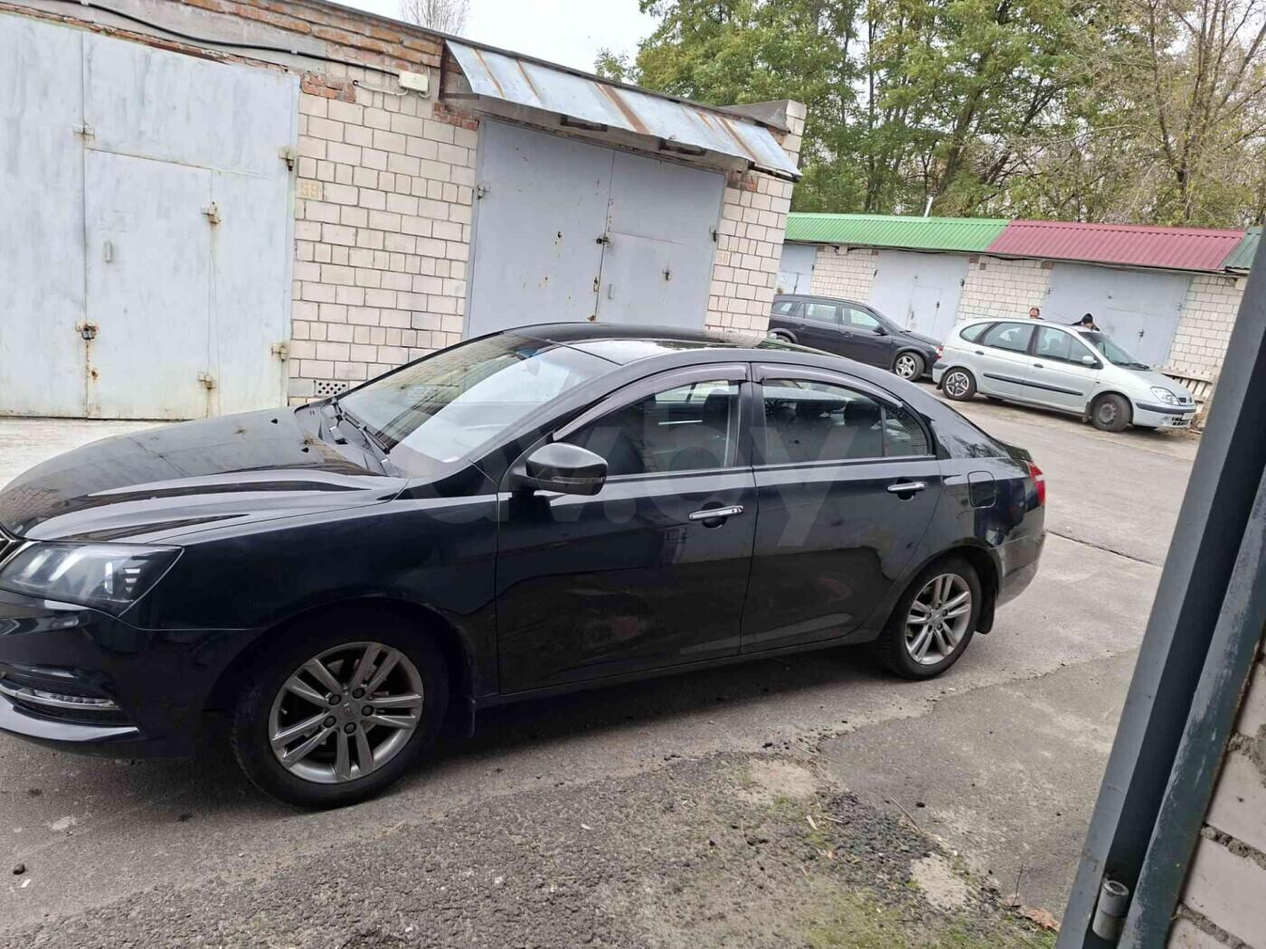Emgrand_2019-2021: (0, 323, 1048, 807)
